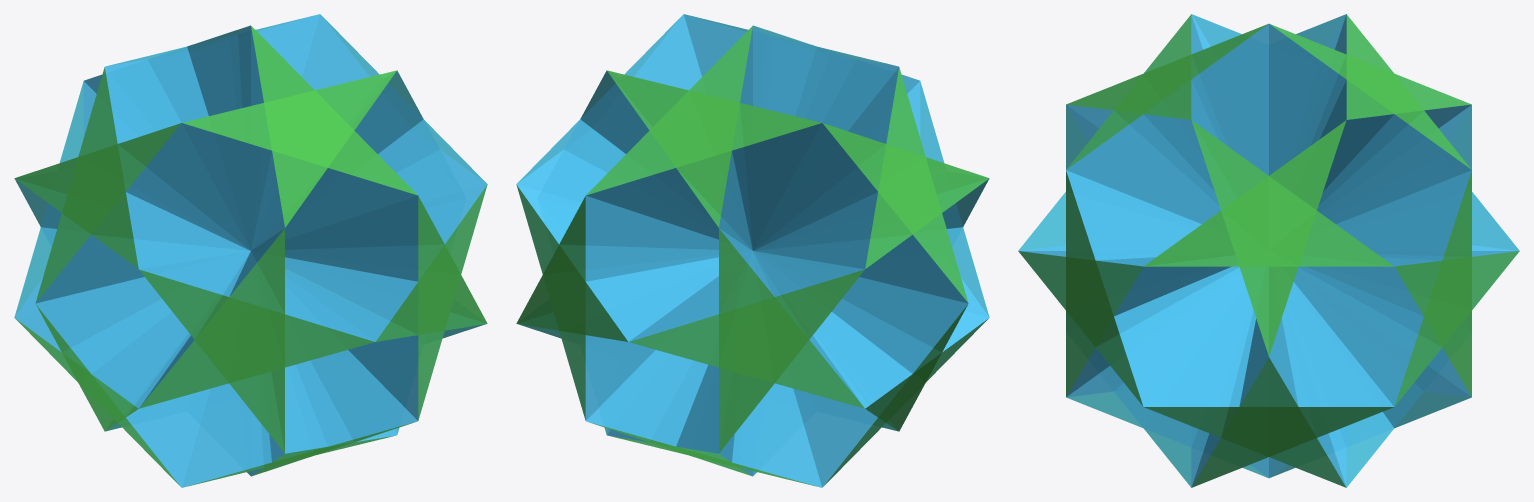
The model's file is SmallDodecahemicosahedron.obj.
The picture shows the model from 3 angles, left to right: view 1: azimuth 30°, elevation 25°; view 2: azimuth 150°, elevation 25°; view 3: azimuth 270°, elevation 25°; orthographic projection.
Bounding box in the file's own units: 2 × 2 × 2.
